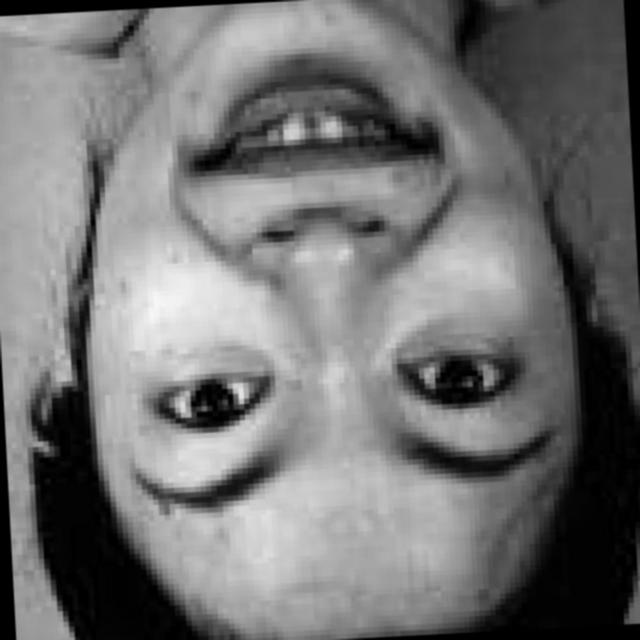surprise: (47, 0, 576, 610)
